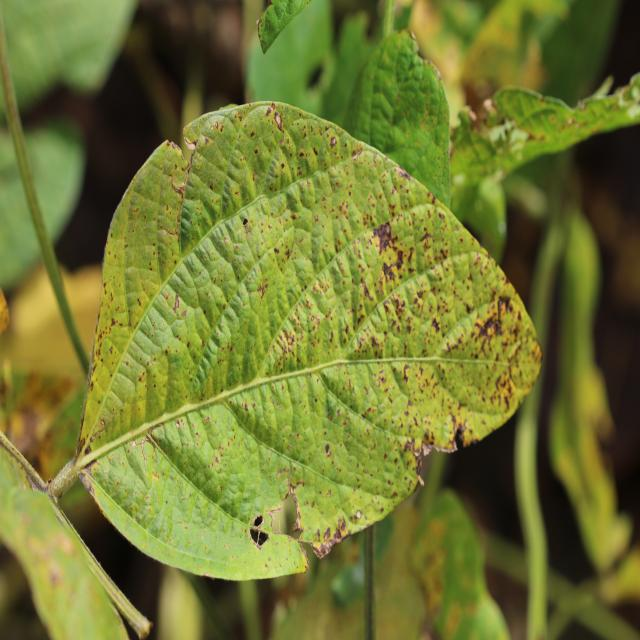Bacterial_Blight: (259, 474, 304, 545), (312, 520, 349, 556), (492, 367, 517, 411), (476, 308, 505, 340), (378, 251, 406, 284), (402, 437, 427, 468), (370, 221, 393, 254), (168, 171, 188, 204), (249, 516, 269, 548), (412, 448, 428, 486), (180, 148, 196, 185), (87, 418, 106, 445), (78, 471, 94, 495), (454, 427, 466, 450), (283, 330, 295, 348), (183, 135, 197, 150), (167, 140, 182, 153), (424, 431, 436, 447), (431, 316, 441, 334), (337, 518, 347, 536), (351, 146, 363, 160), (253, 514, 264, 529), (402, 363, 411, 381), (274, 112, 283, 130), (173, 293, 181, 313), (213, 119, 223, 132), (257, 284, 265, 299), (323, 526, 331, 541), (324, 443, 332, 458), (83, 444, 92, 456), (265, 104, 273, 117), (175, 418, 184, 428), (330, 136, 337, 148), (152, 471, 160, 481), (242, 218, 249, 228), (204, 416, 211, 425), (110, 317, 116, 327), (355, 510, 361, 520), (273, 247, 280, 255), (130, 439, 137, 447), (223, 236, 229, 244), (244, 403, 249, 412), (181, 310, 187, 317), (250, 130, 255, 138)
Soybean: (74, 102, 541, 579)
